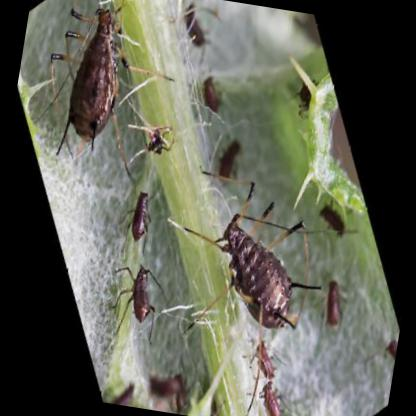uroleucon compositae: (215, 213, 292, 332), (71, 9, 117, 142)
